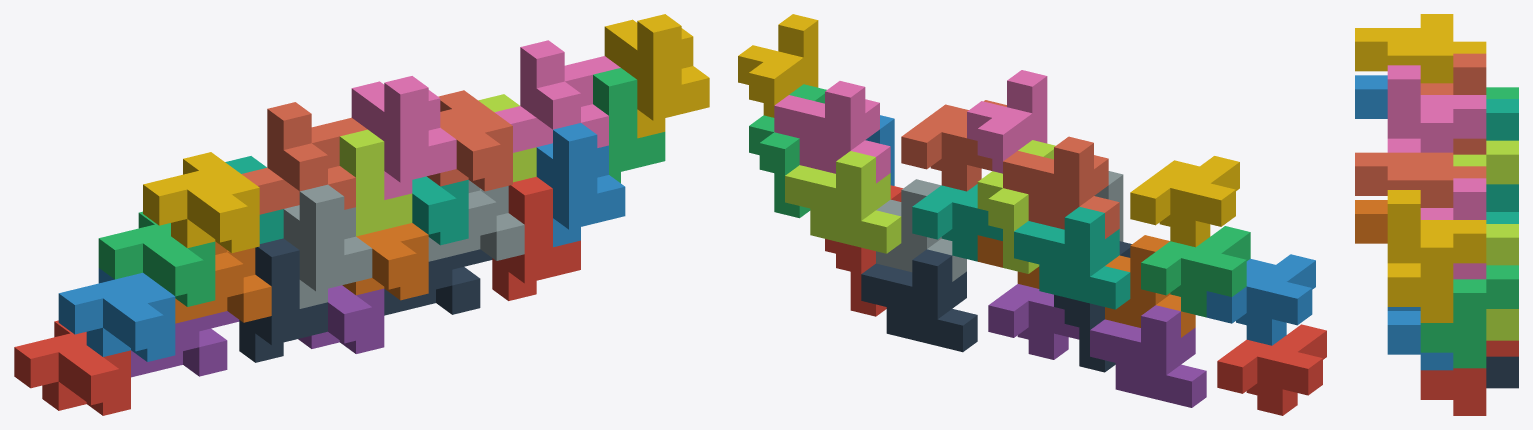
File: tiling.obj
The picture shows the model from 3 angles, left to right: view 1: azimuth 30°, elevation 25°; view 2: azimuth 150°, elevation 25°; view 3: azimuth 270°, elevation 25°; orthographic projection. The views are drawn at different scales.
Visible parts, largest first — view 1: copy_1_domain_4, copy_2_domain_8, copy_2_domain_4, copy_1_domain_2, copy_3_domain_4, copy_3_domain_8, copy_1_domain_1, copy_2_domain_2, copy_2_domain_6, copy_1_domain_3, copy_2_domain_1, copy_2_domain_5 (+12 smaller); view 2: copy_3_domain_5, copy_3_domain_3, copy_3_domain_7, copy_3_domain_1, copy_3_domain_8, copy_1_domain_4, copy_3_domain_4, copy_1_domain_1, copy_1_domain_2, copy_1_domain_3, copy_2_domain_4, copy_2_domain_8 (+12 smaller); view 3: copy_2_domain_8, copy_2_domain_4, copy_1_domain_4, copy_2_domain_7, copy_1_domain_8, copy_2_domain_5, copy_3_domain_7, copy_3_domain_8, copy_3_domain_4, copy_3_domain_3, copy_2_domain_6, copy_2_domain_3 (+5 smaller).
Part boxes in pixels (x1,y1,x2,y2): copy_1_domain_4: (143,152,259,253); copy_2_domain_8: (604,14,709,138); copy_2_domain_4: (351,76,456,199); copy_1_domain_2: (58,268,175,361); copy_3_domain_4: (241,102,367,214); copy_3_domain_8: (495,40,620,152); copy_1_domain_1: (14,320,130,415); copy_2_domain_2: (283,184,372,308); copy_2_domain_6: (536,123,625,247); copy_1_domain_3: (98,211,215,306); copy_2_domain_1: (239,238,327,362); copy_2_domain_5: (492,176,580,300); copy_3_domain_5: (861,249,977,352); copy_3_domain_3: (1014,206,1130,309); copy_3_domain_7: (785,151,901,253); copy_3_domain_1: (1090,305,1206,407); copy_3_domain_8: (774,81,890,183); copy_1_domain_4: (1130,156,1239,247); copy_3_domain_4: (1003,136,1119,238); copy_1_domain_1: (1217,324,1326,415); copy_1_domain_2: (1206,254,1315,345); copy_1_domain_3: (1141,226,1250,317); copy_2_domain_4: (967,70,1047,173); copy_2_domain_8: (738,14,818,117); copy_2_domain_8: (1387,190,1486,322); copy_2_domain_4: (1387,65,1486,152); copy_1_domain_4: (1355,14,1486,83); copy_2_domain_7: (1420,265,1518,368); copy_1_domain_8: (1355,152,1486,207); copy_2_domain_5: (1420,340,1518,415); copy_3_domain_7: (1486,224,1518,340); copy_3_domain_8: (1420,178,1486,279); copy_3_domain_4: (1420,53,1486,154); copy_3_domain_3: (1486,99,1518,211); copy_2_domain_6: (1387,307,1453,370); copy_2_domain_3: (1453,140,1518,184).
Bounding box in the file's own units: 23 × 9 × 5.
